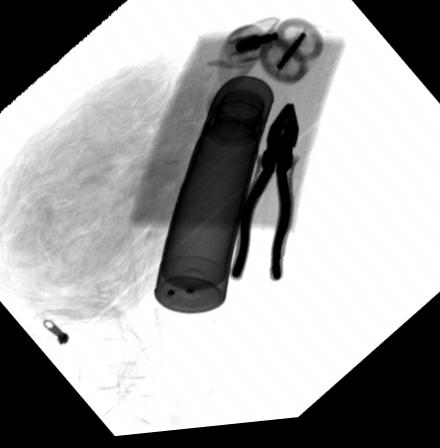Pliers: (229, 108, 303, 288)
